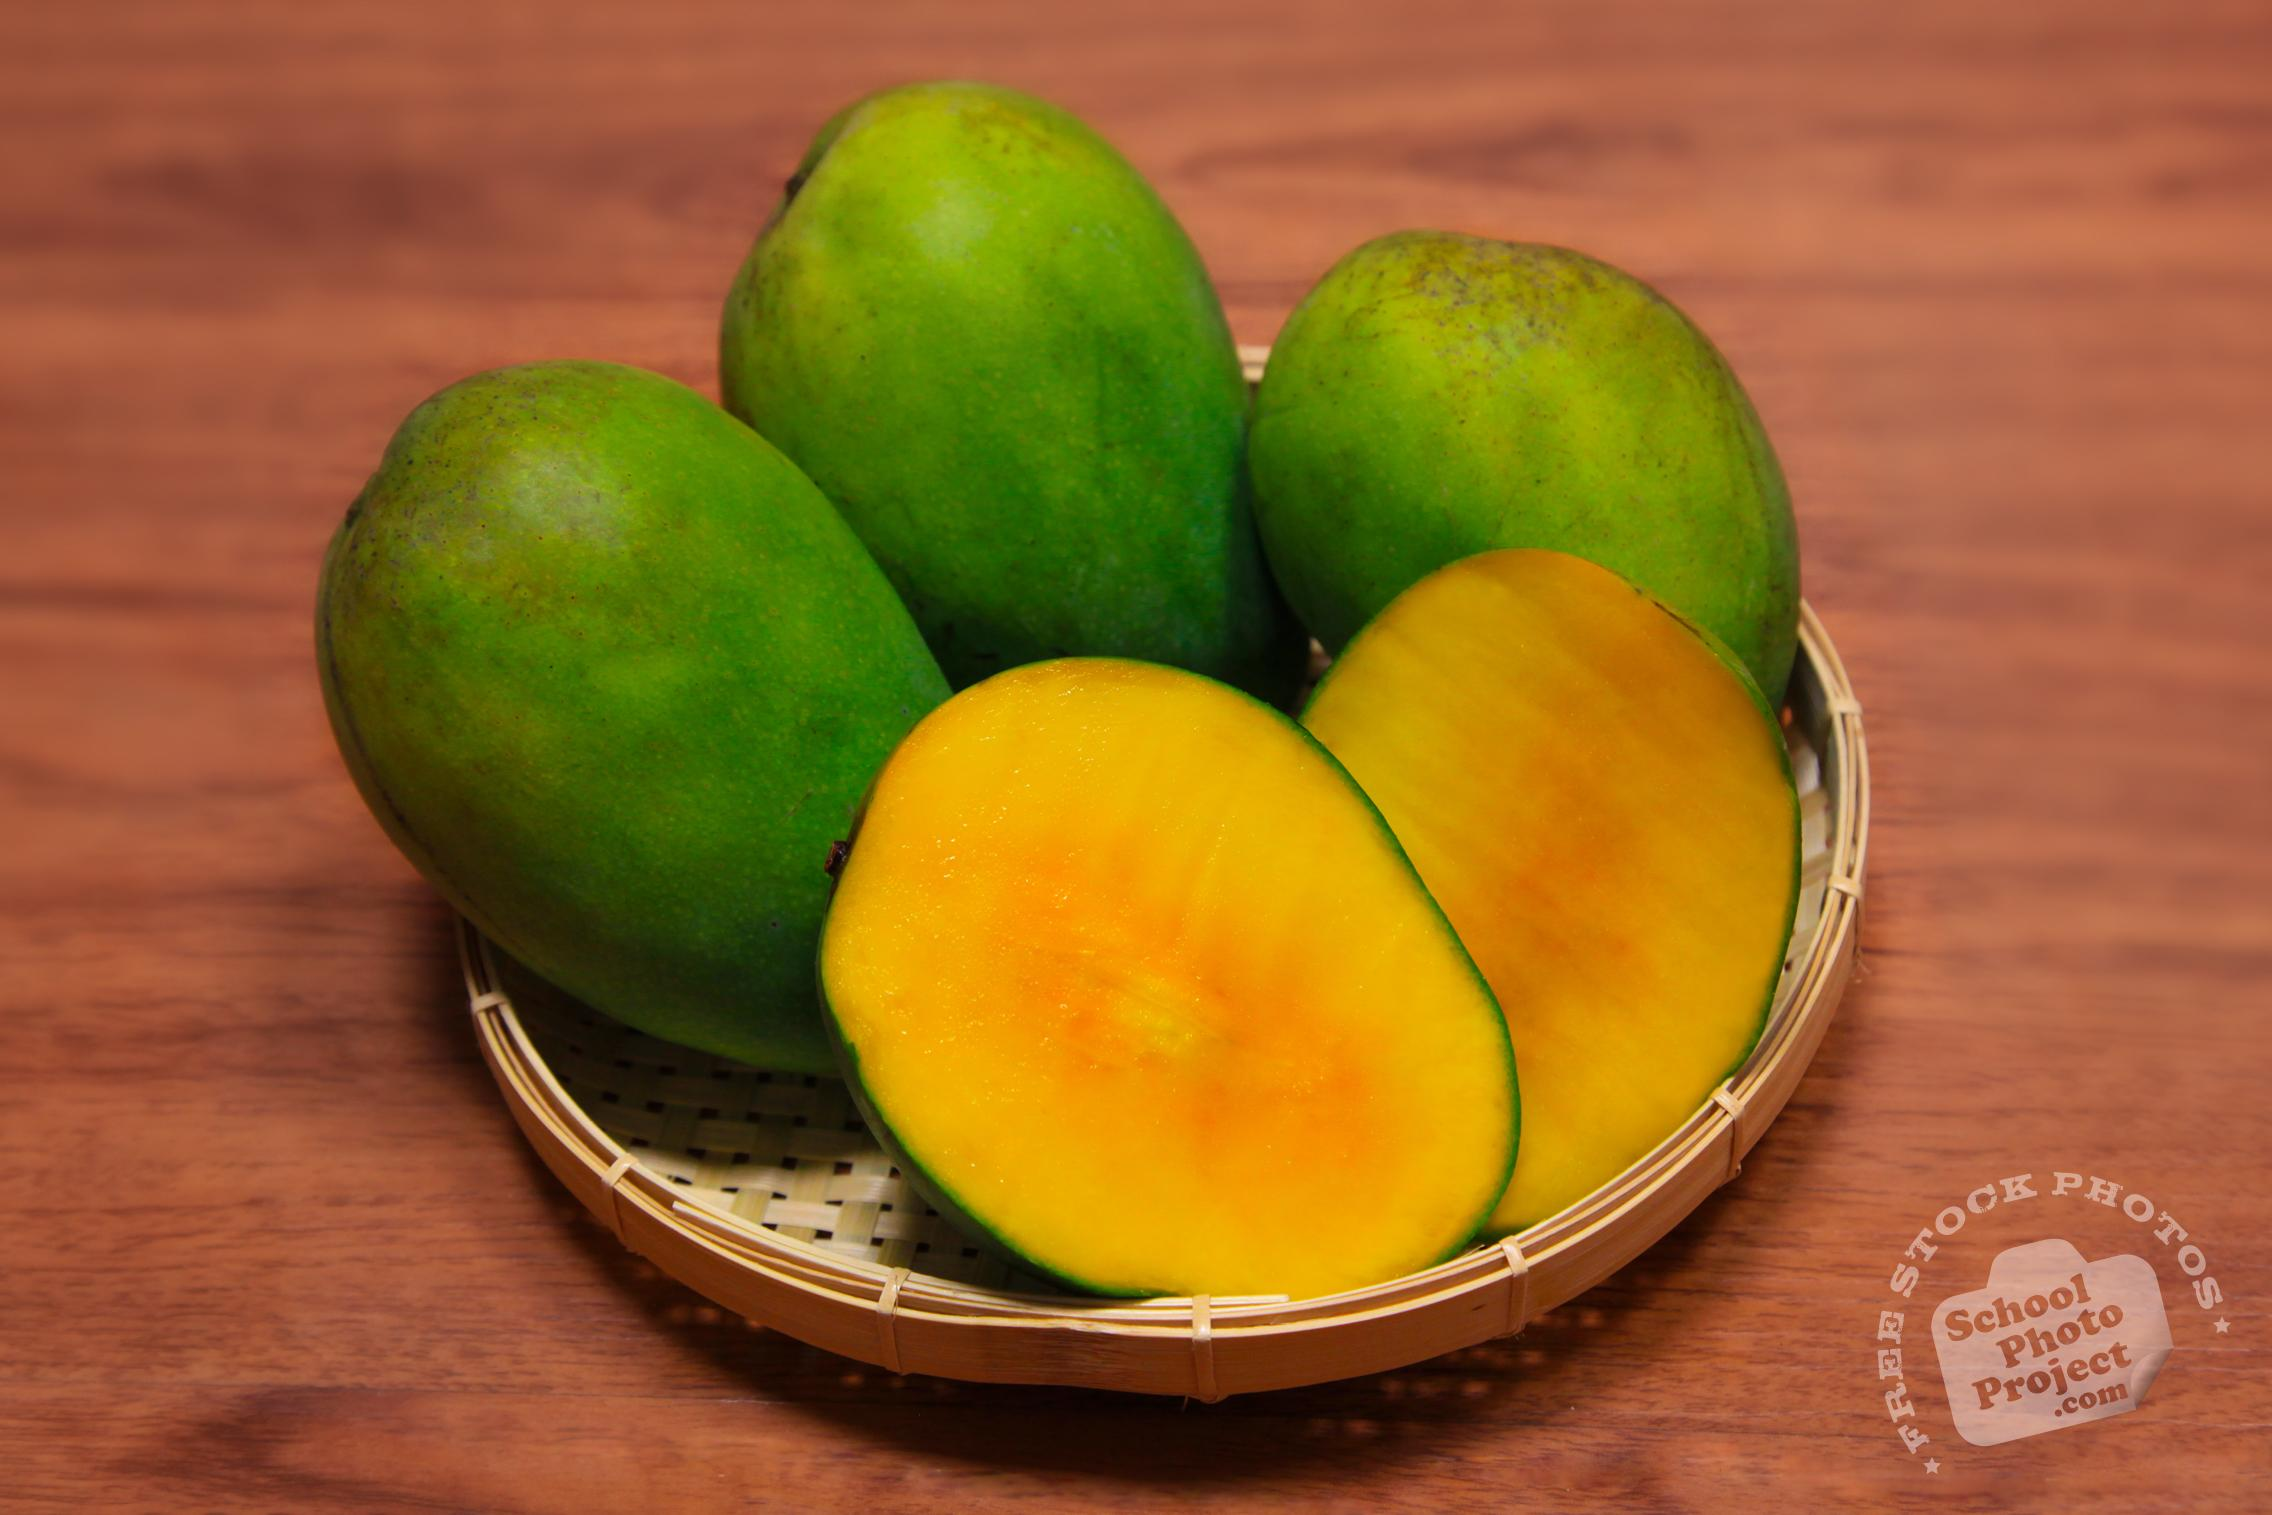mango: (810, 648, 1532, 1293), (314, 362, 881, 1092), (698, 73, 1285, 671), (1346, 543, 1792, 1207)
